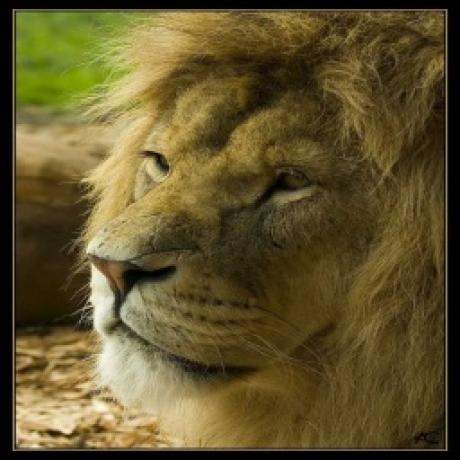Lion: (74, 5, 447, 453)
